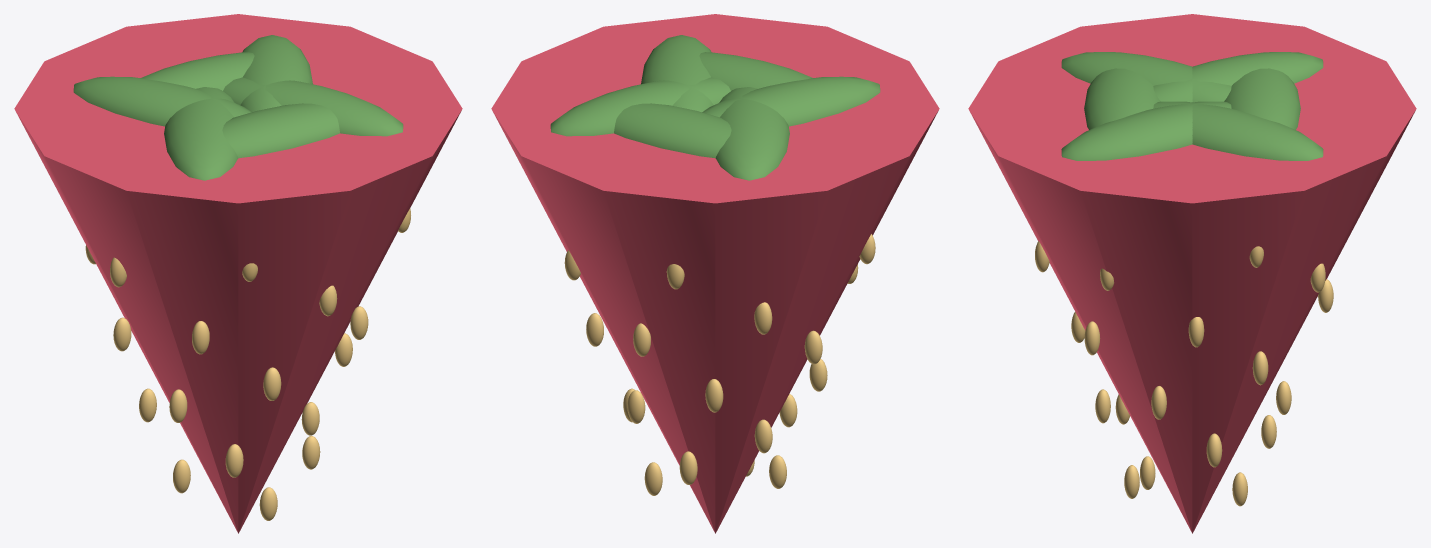
Rendered from strawberry.glb.
3 renders of one model, left to right at view 1: azimuth 30°, elevation 25°; view 2: azimuth 150°, elevation 25°; view 3: azimuth 270°, elevation 25°, orthographic.
Parts seen in each view (by area): view 1: strawberry; view 2: strawberry; view 3: strawberry.
Boxes of the visible parts, x1=… form: strawberry: x1=14, y1=14, x2=462, y2=533; strawberry: x1=491, y1=14, x2=939, y2=533; strawberry: x1=968, y1=14, x2=1416, y2=533.
Size of the model in its own units: 0.86 by 0.94 by 0.86.
